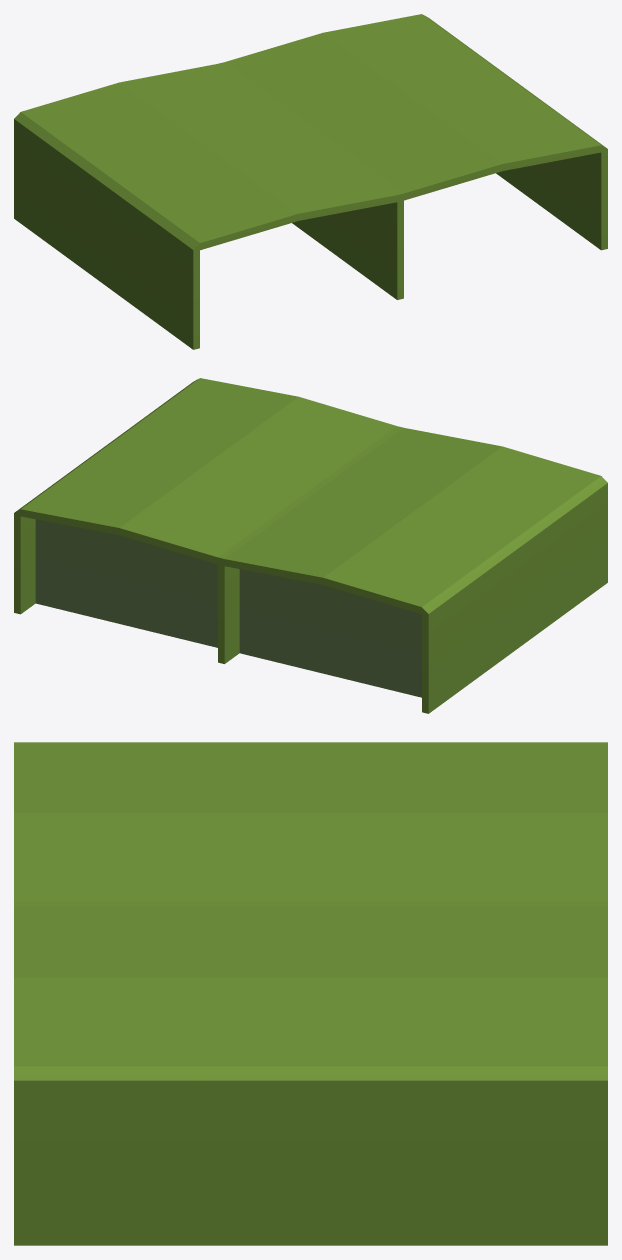
The model's file is Tunel_03.fbx.
The picture shows the model from 3 angles, top to bottom: view 1: azimuth 30°, elevation 25°; view 2: azimuth 150°, elevation 25°; view 3: azimuth 270°, elevation 25°; orthographic projection. The views are drawn at different scales.
Parts seen in each view (by area): view 1: Tunel_03; view 2: Tunel_03; view 3: Tunel_03.
Part boxes in pixels (x1,y1,x2,y2): Tunel_03: (14, 14, 607, 349); Tunel_03: (14, 378, 607, 713); Tunel_03: (14, 742, 607, 1245).
Size of the model in its own units: 24.4 by 6.21 by 18.29.
